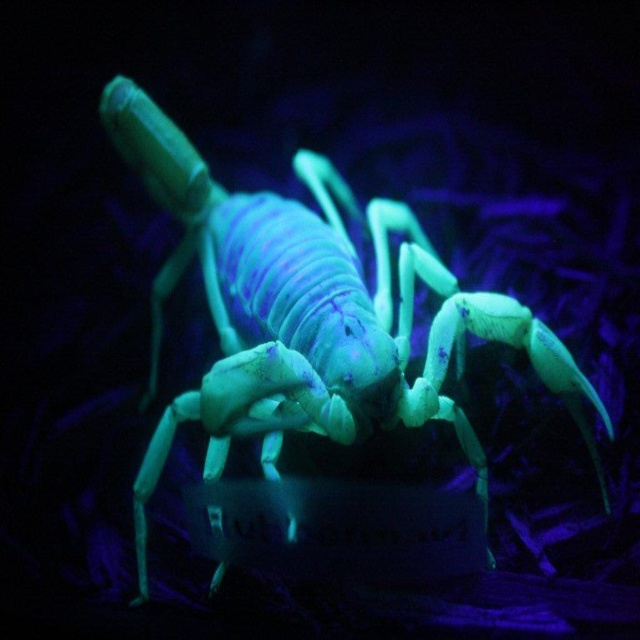Scorpion: (99, 78, 616, 605)
